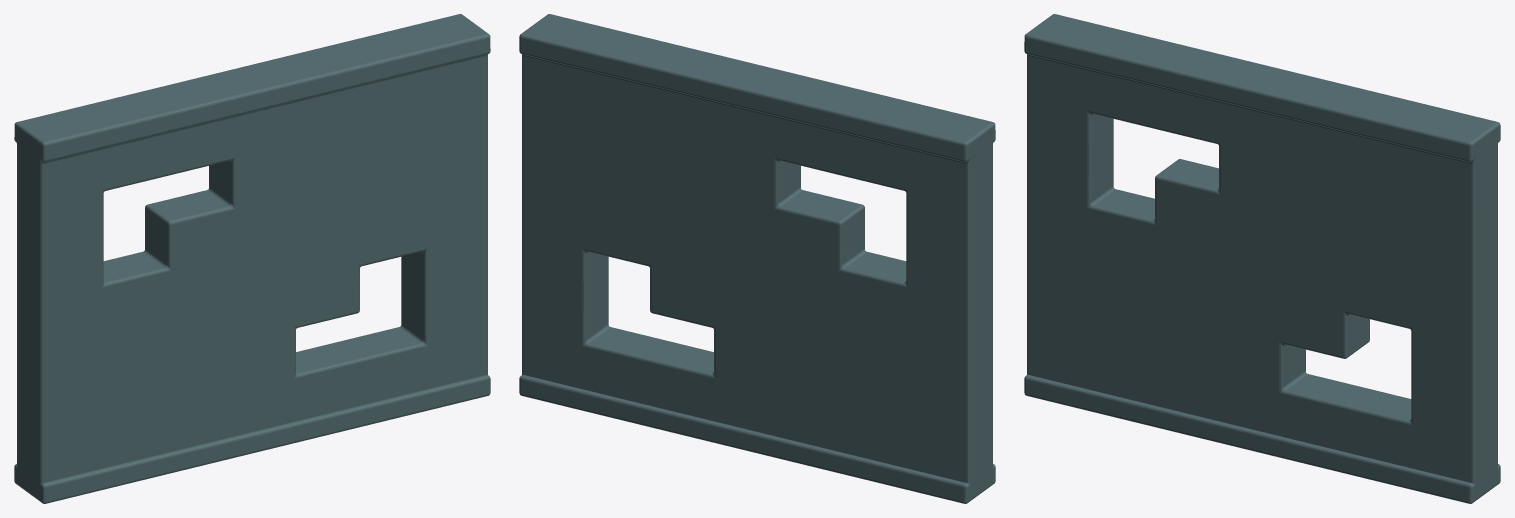
File: wall shaped cut inside.fbx
3 renders of one model, left to right at view 1: azimuth 30°, elevation 25°; view 2: azimuth 150°, elevation 25°; view 3: azimuth 330°, elevation 25°, orthographic.
Parts seen in each view (by area): view 1: wall shaped cut inside; view 2: wall shaped cut inside; view 3: wall shaped cut inside.
Part boxes in pixels (box(x1,y1,x2,y2)): wall shaped cut inside: box(14, 14, 490, 503); wall shaped cut inside: box(519, 14, 995, 503); wall shaped cut inside: box(1024, 14, 1500, 503).
Bounding box in the file's own units: 400 × 308 × 46.25.
